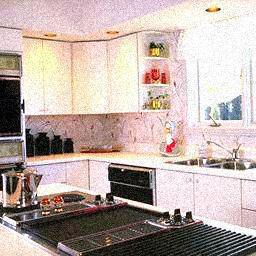Electrodomestico: (13, 207, 254, 255), (113, 165, 157, 207)
Lavaplatos: (166, 140, 255, 176)
